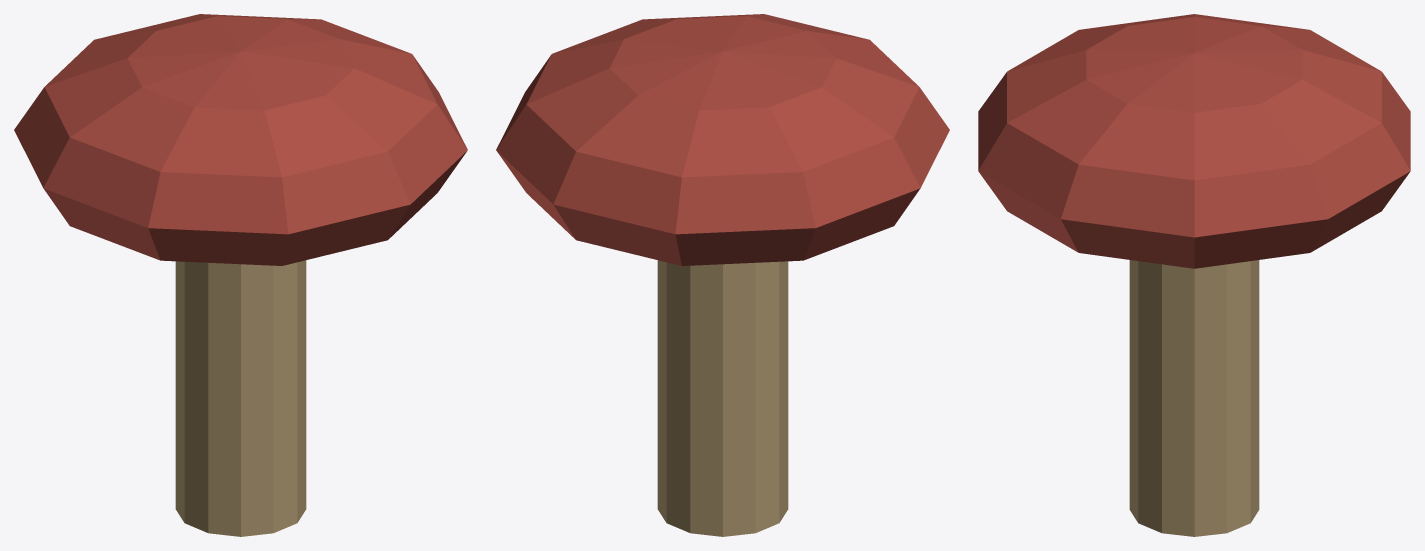
File: nature-mushroom.lod0.glb
3 views of the same model, side by side, from view 1: azimuth 30°, elevation 25°; view 2: azimuth 150°, elevation 25°; view 3: azimuth 270°, elevation 25° (orthographic).
Parts seen in each view (by area): view 1: nature-mushroom__body; view 2: nature-mushroom__body; view 3: nature-mushroom__body.
Boxes of the visible parts, left/top/right/bottom form: nature-mushroom__body: left=14, top=14, right=467, bottom=536; nature-mushroom__body: left=496, top=14, right=949, bottom=536; nature-mushroom__body: left=978, top=14, right=1410, bottom=536.
Size of the model in its own units: 0.56 by 0.62 by 0.5326.
